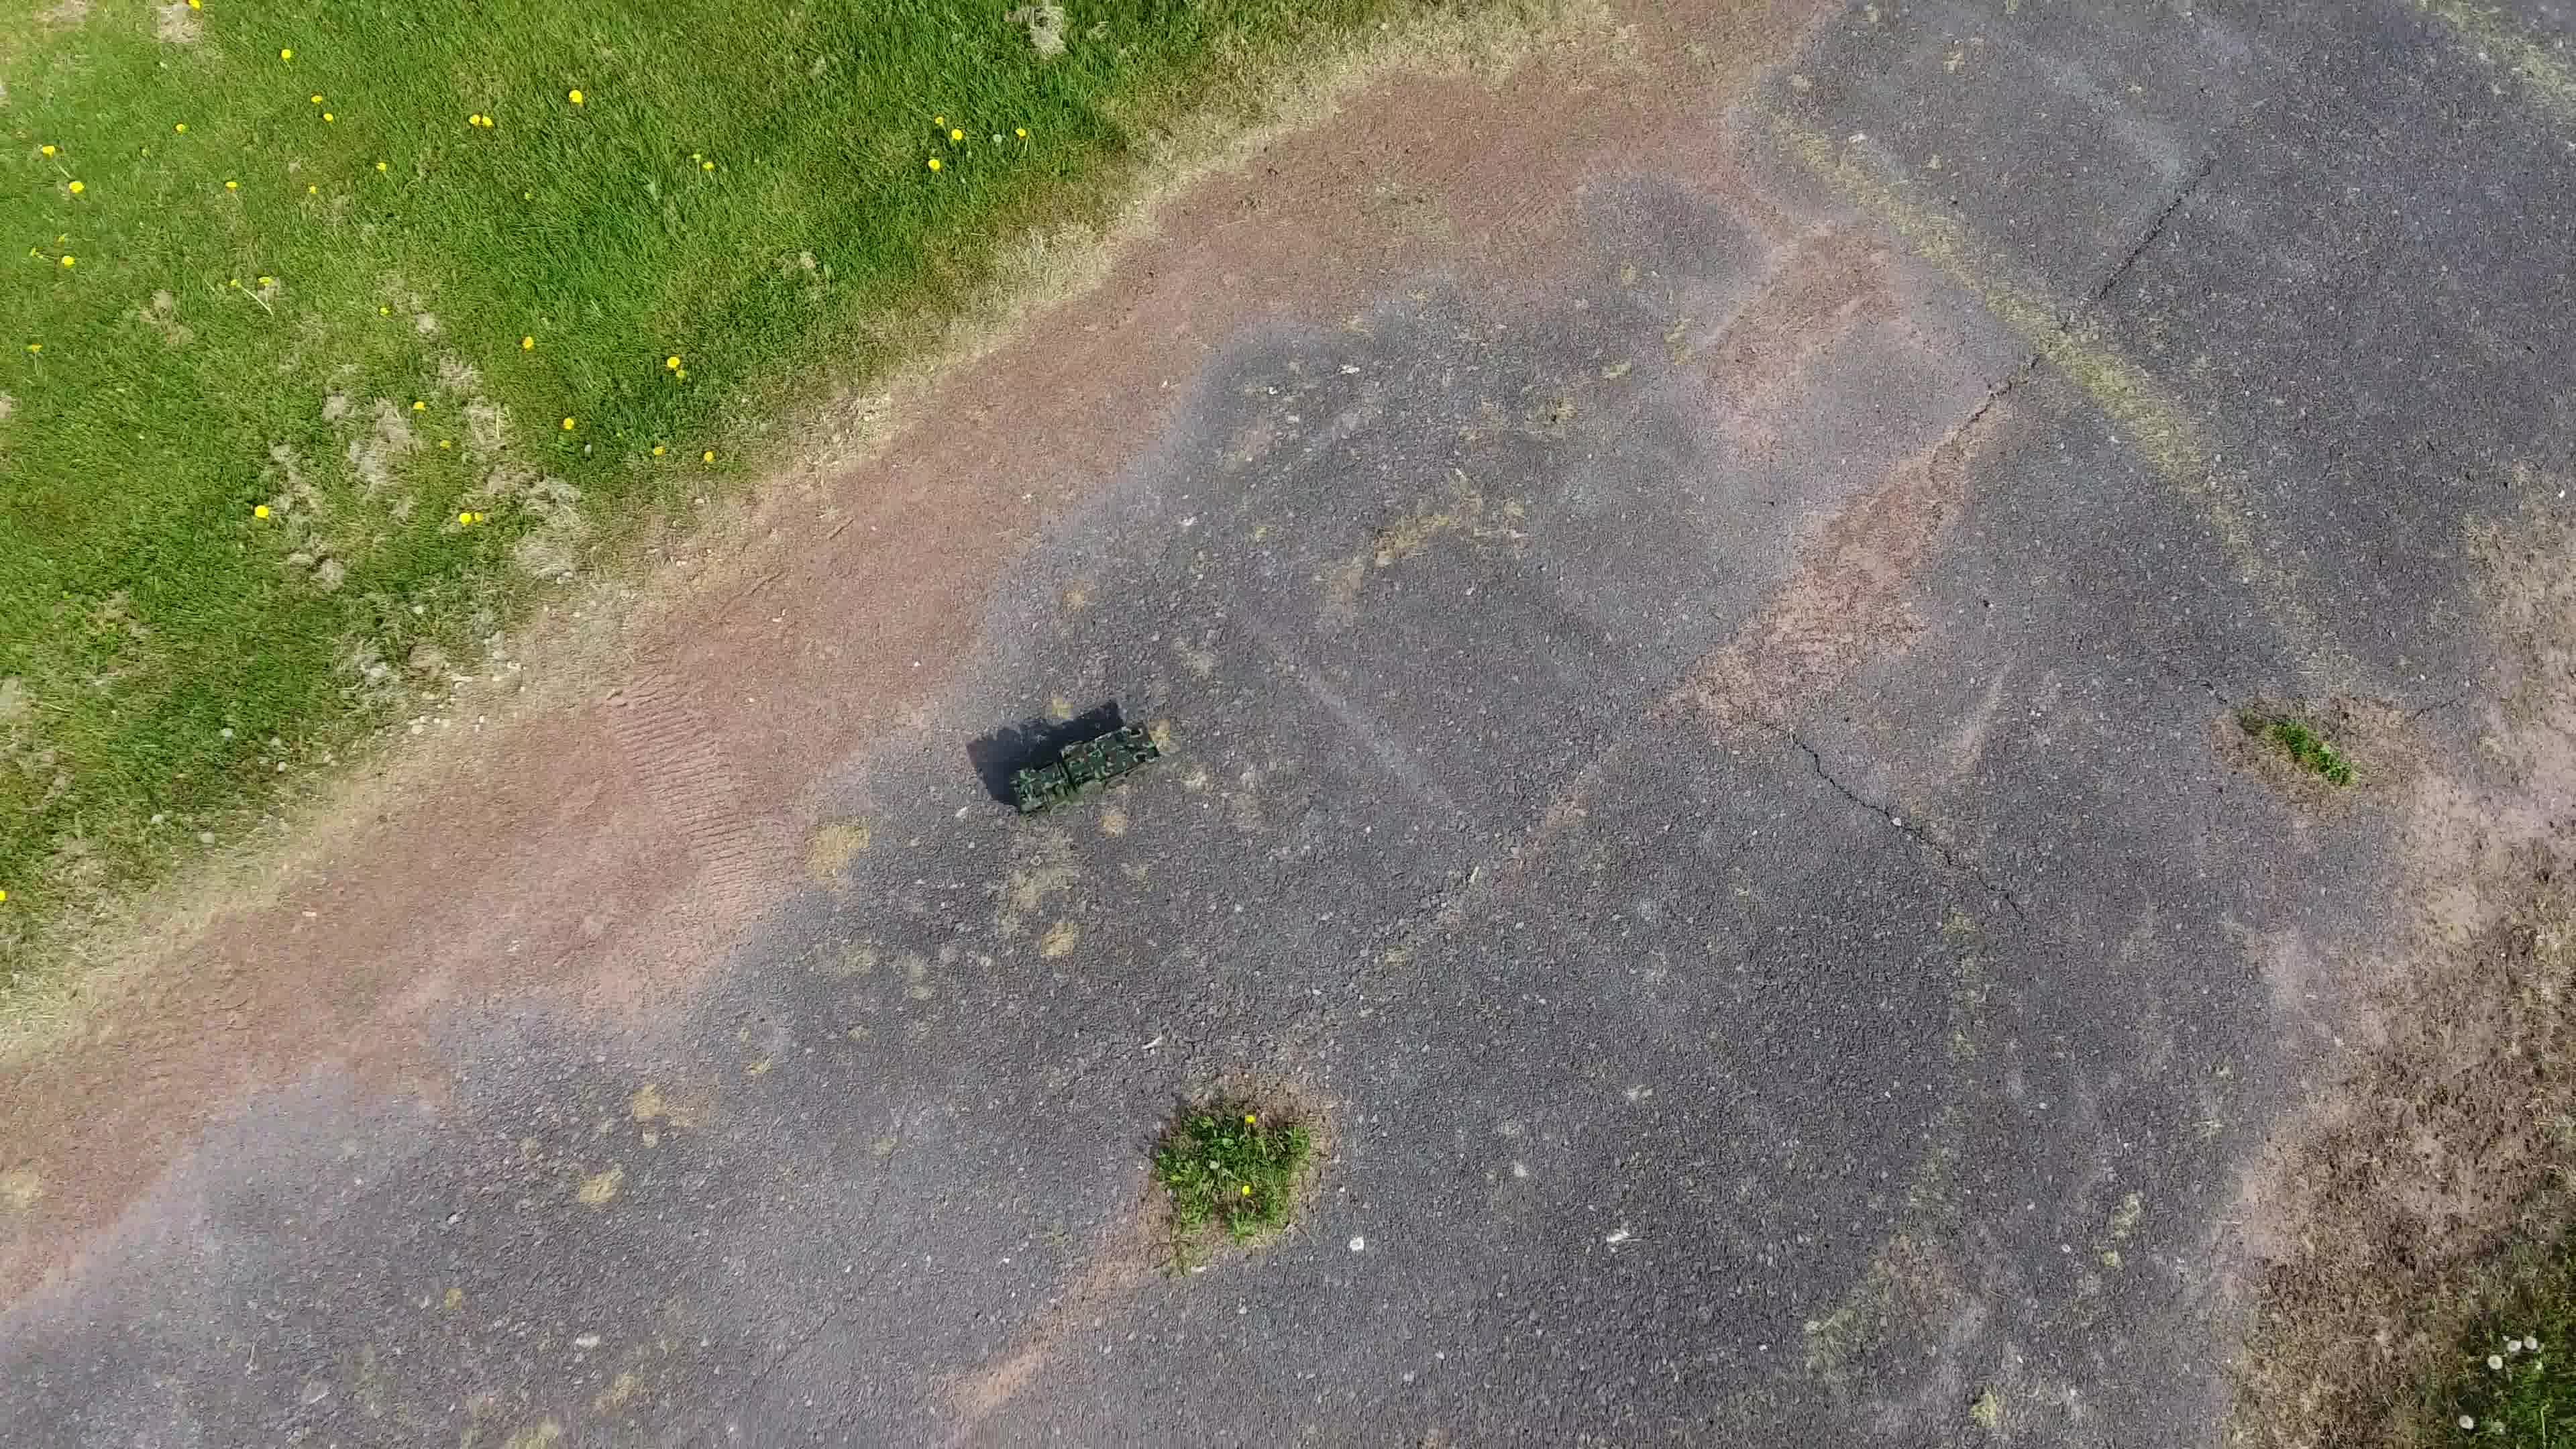transporter9_camo: (1005, 715, 1164, 817)
